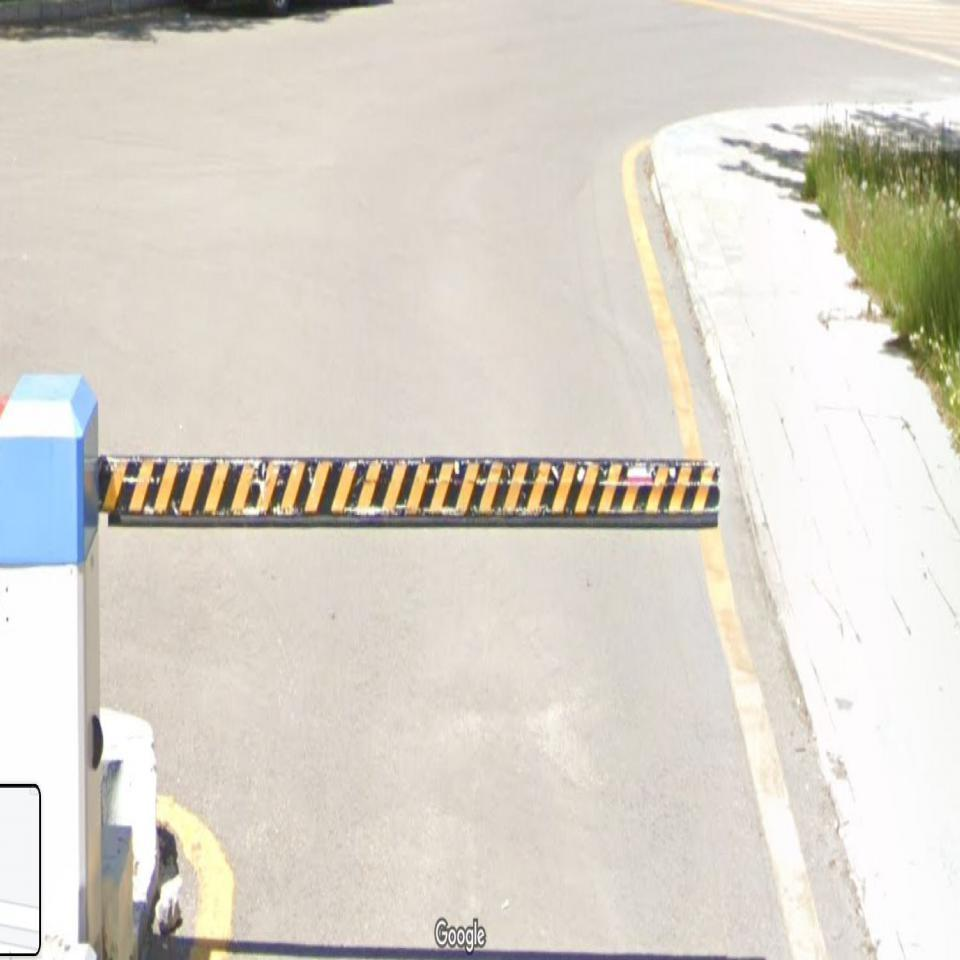speedbreaker: (95, 433, 724, 527)
